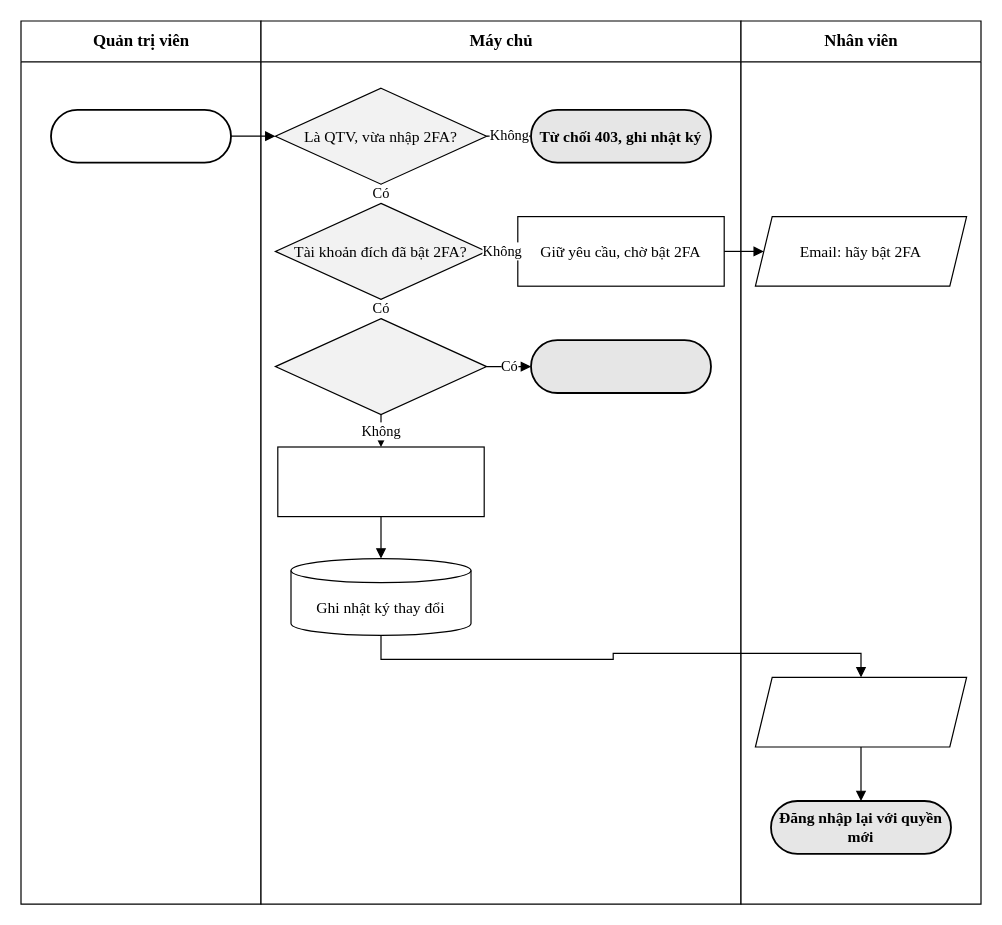
The diagram is 1002 pixels wide and 925 high, and some of its shapes have lost their labels. The centre of each missing label's shape, as x and y in pixels:
"Chọn tài khoản, chọn vai trò" goes at [140,135].
"Email báo đổi quyền" goes at [860,711].
"Hạ quyền QTV cuối cùng?" goes at [380,366].
"Từ chối: phải còn 1 QTV" goes at [620,366].
"Đổi vai trò, thu hồi phiên cũ" goes at [380,481].
